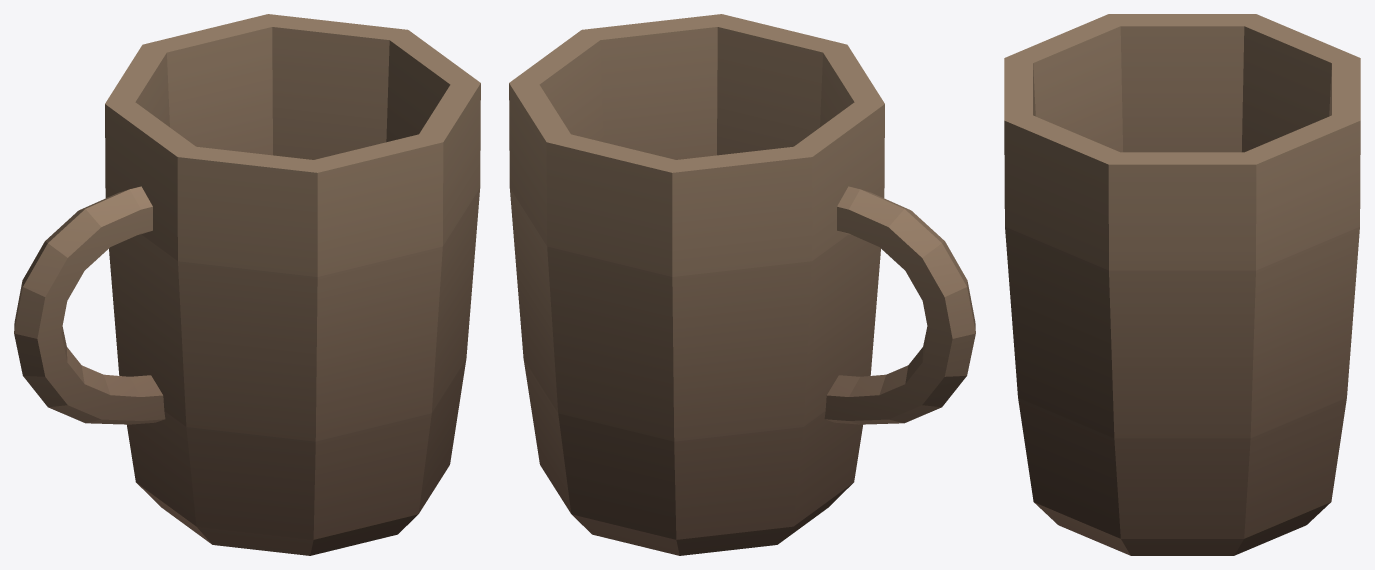
Rendered from Cup3_C5.fbx.
3 renders of one model, left to right at view 1: azimuth 30°, elevation 25°; view 2: azimuth 150°, elevation 25°; view 3: azimuth 270°, elevation 25°, orthographic.
Parts seen in each view (by area): view 1: Cup3_C5; view 2: Cup3_C5; view 3: Cup3_C5.
Boxes of the visible parts, x1,y1,x2,y2 form: Cup3_C5: (14,14,480,555); Cup3_C5: (509,14,975,555); Cup3_C5: (1004,14,1360,555).
Bounding box in the file's own units: 13.18 × 11.91 × 9.29.
